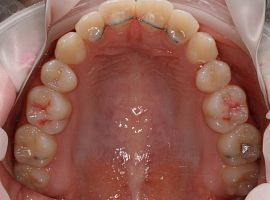UL2M_healthy: (15, 166, 55, 193)
UR1BC_decay: (194, 58, 230, 95)
UR1BC_healthy: (42, 59, 79, 95)
UR1M_decay: (218, 120, 261, 167), (13, 127, 60, 167)
UR2BC_decay: (200, 85, 245, 135), (28, 86, 73, 135)
UR2M_healthy: (224, 160, 257, 197)
URCI_decay: (98, 1, 135, 29), (136, 1, 170, 29)
URC_healthy: (182, 33, 217, 69), (53, 33, 88, 66)
URLI_decay: (162, 10, 198, 45), (76, 12, 106, 46)
